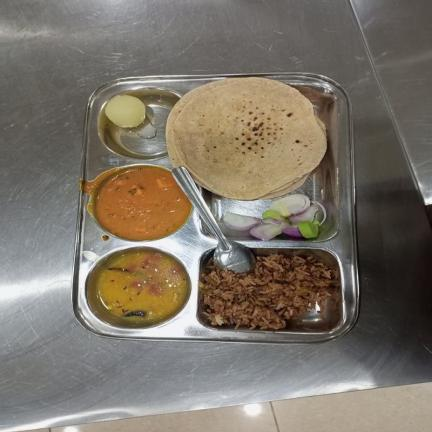Chana Dal: (97, 251, 188, 322)
Chhaina: (105, 95, 146, 128)
Fried Rice: (197, 251, 335, 332)
Paneer: (95, 166, 192, 240)
Plate: (71, 72, 360, 344)
Roti: (165, 78, 327, 200)
Salad: (222, 192, 328, 241)
